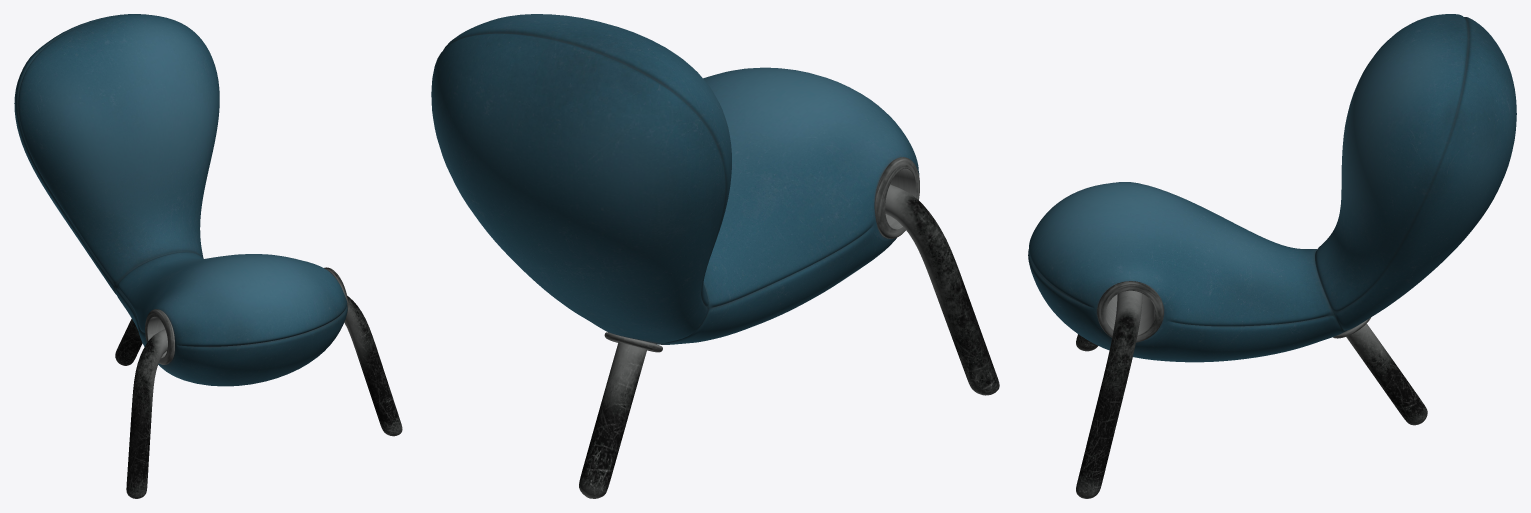
File: Chair_Embryo.glb
3 views of the same model, side by side, from view 1: azimuth 30°, elevation 25°; view 2: azimuth 150°, elevation 25°; view 3: azimuth 270°, elevation 25° (orthographic). The views are drawn at different scales.
Visible parts, largest first — view 1: Embryo_Chair_; view 2: Embryo_Chair_; view 3: Embryo_Chair_.
Part boxes in pixels (box(x1,y1,x2,y2)): Embryo_Chair_: box(14, 14, 402, 498); Embryo_Chair_: box(431, 14, 999, 498); Embryo_Chair_: box(1028, 14, 1516, 498).
Size of the model in its own units: 0.7803 by 0.9035 by 1.03.
Materials: 1 (1 with a texture image).
